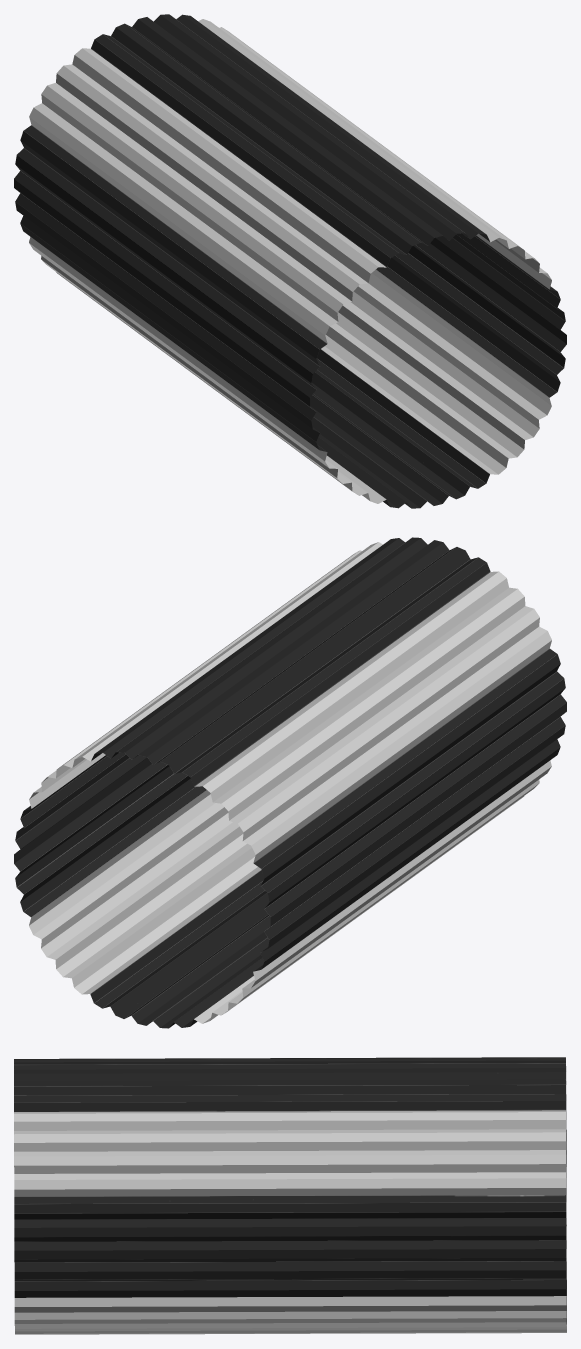
File: RibbedFuelTank.fbx
The picture shows the model from 3 angles, top to bottom: view 1: azimuth 30°, elevation 25°; view 2: azimuth 150°, elevation 25°; view 3: azimuth 270°, elevation 25°; orthographic projection. The views are drawn at different scales.
Parts seen in each view (by area): view 1: RibbedFuelTank; view 2: RibbedFuelTank; view 3: RibbedFuelTank.
Part boxes in pixels (bbox=[...]): RibbedFuelTank: bbox=[14, 14, 566, 508]; RibbedFuelTank: bbox=[14, 537, 566, 1028]; RibbedFuelTank: bbox=[14, 1057, 566, 1334].
Size of the model in its own units: 2 by 2.01 by 4.01.
Materials: 1 (1 with a texture image).
